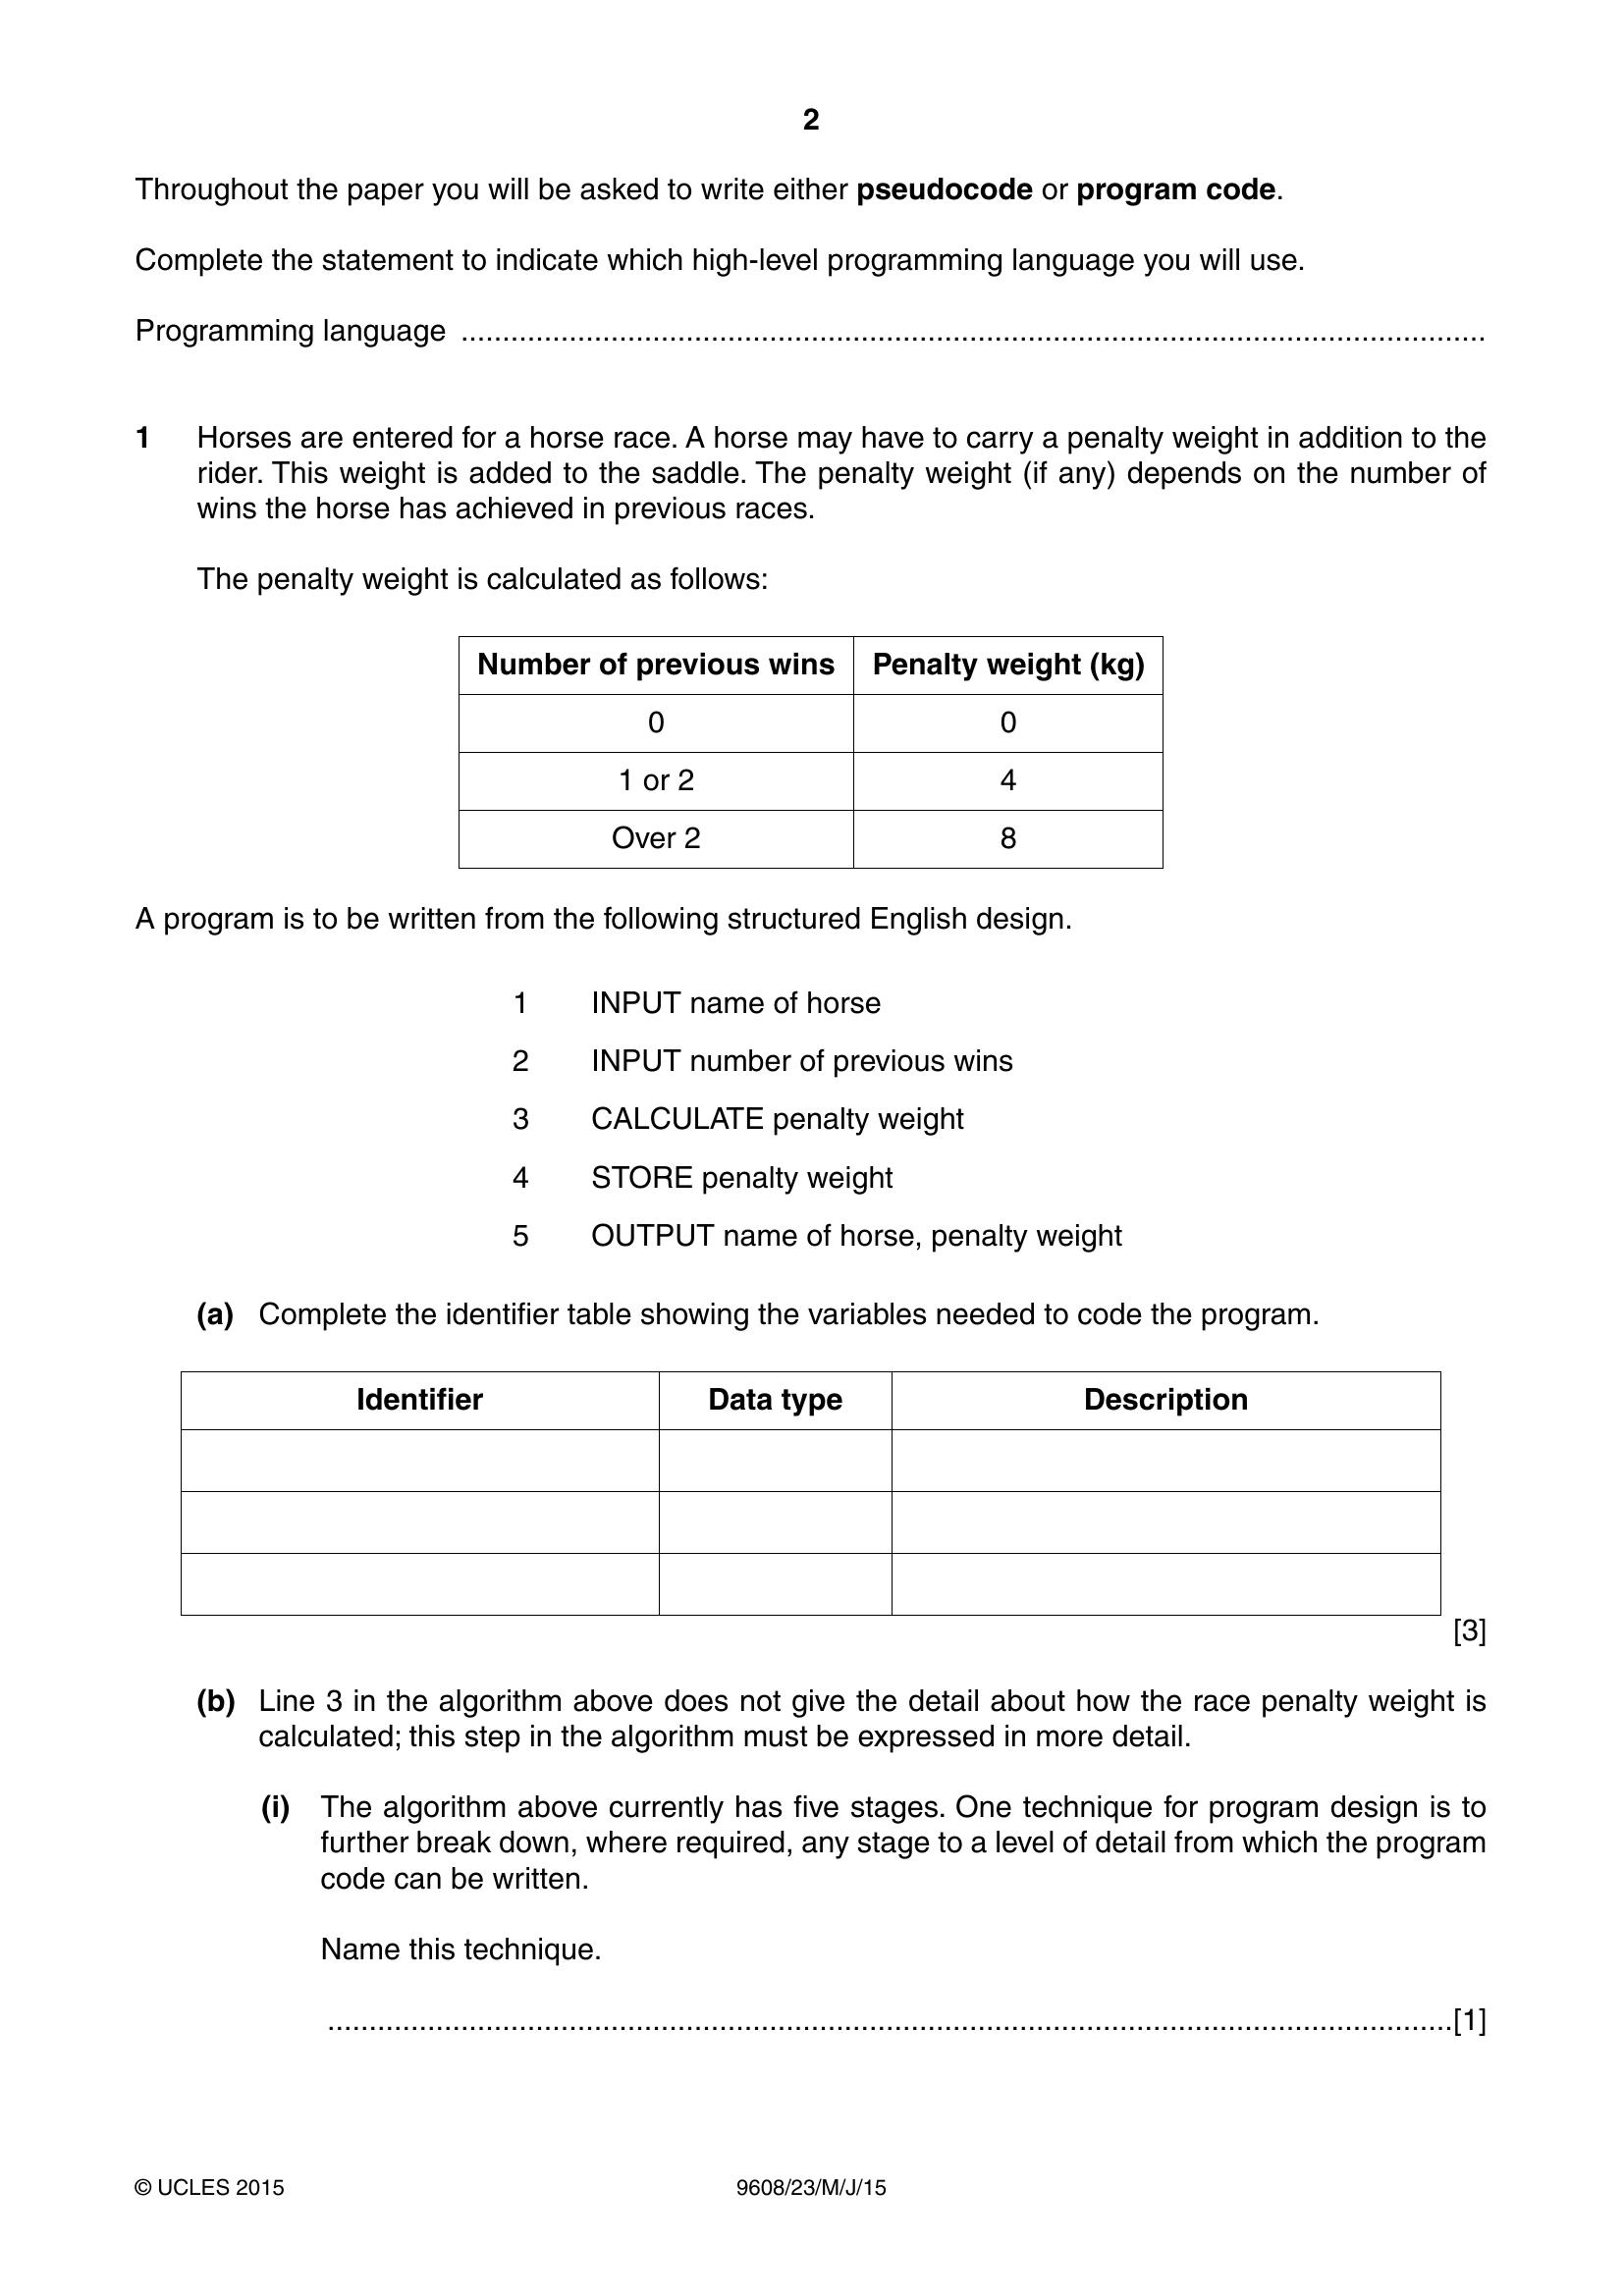question: (7, 393, 1624, 2113)
